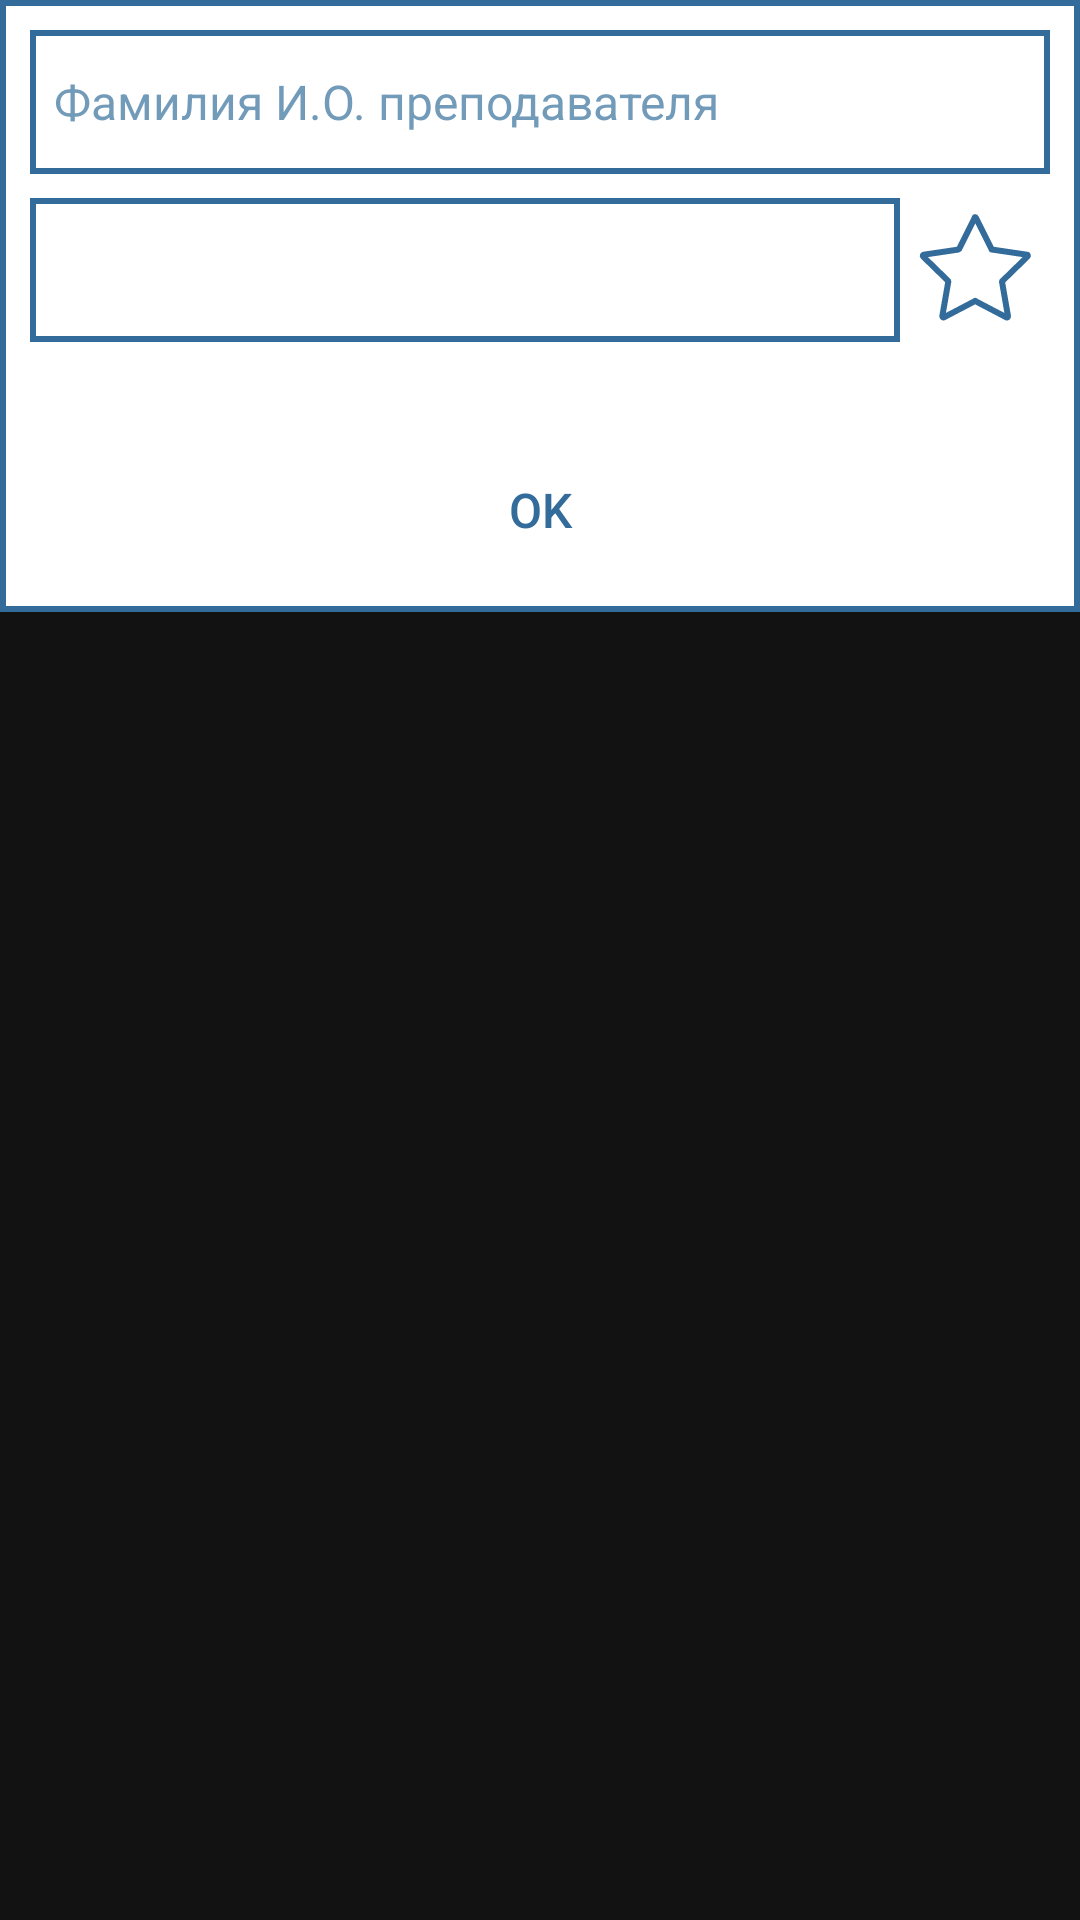

Screen size 1080 x 1920. Icon name, then its center in pixels as [x,y]:
liked roundless: [975,267]
